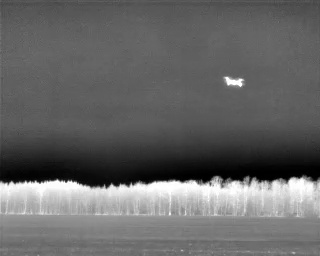DRONE: (220, 72, 248, 92)
